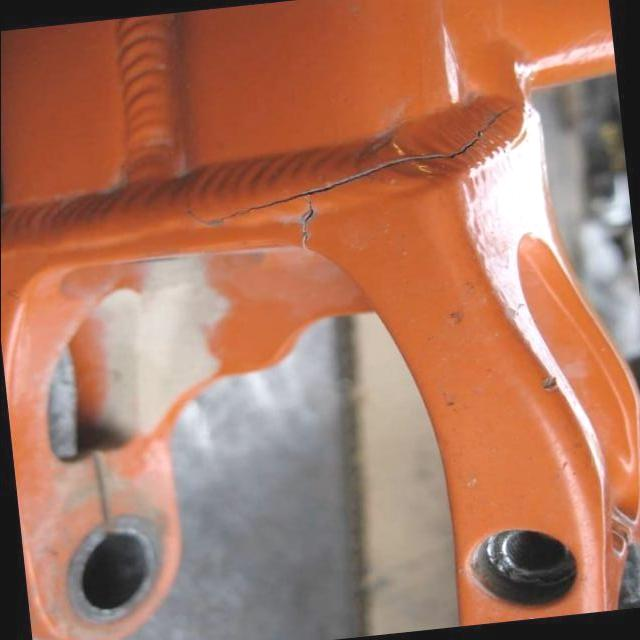defect: (182, 103, 531, 254)
